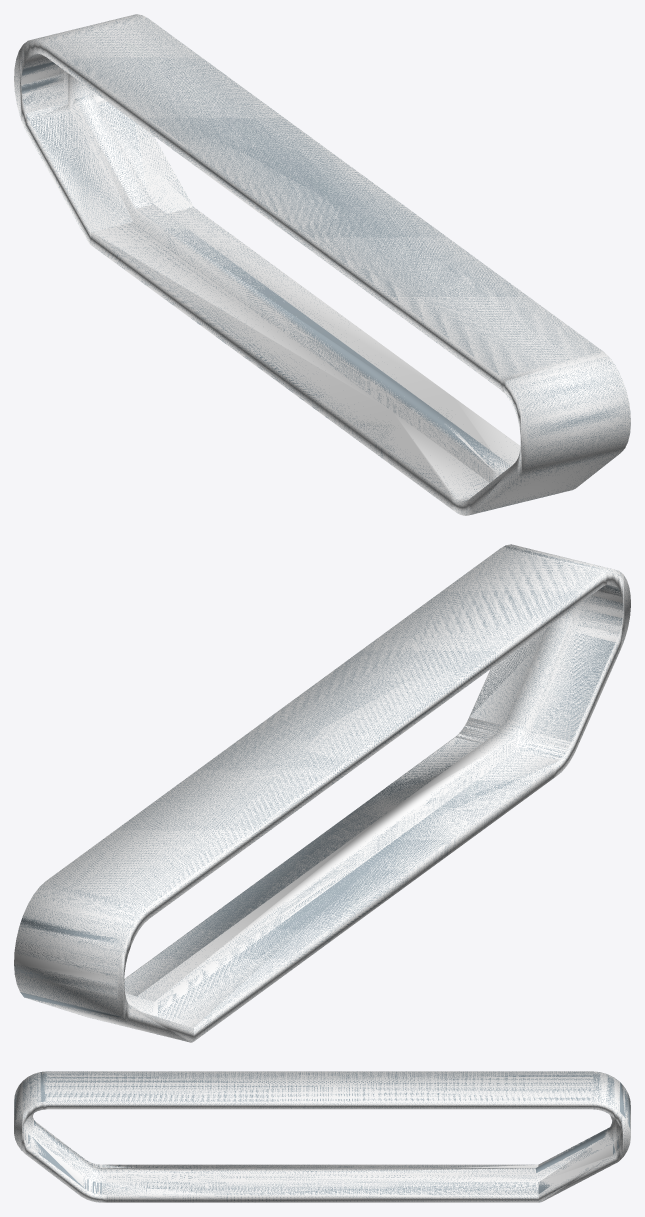
File: Tank_T-90.Full_solid_truck.fbx
3 views of the same model, one above another, from view 1: azimuth 30°, elevation 25°; view 2: azimuth 150°, elevation 25°; view 3: azimuth 270°, elevation 25° (orthographic). The views are drawn at different scales.
Visible parts, largest first — view 1: Model; view 2: Model; view 3: Model.
Boxes of the visible parts, x1,y1,x2,y2 form: Model: (14,14,630,515); Model: (14,544,630,1042); Model: (14,1071,630,1202).
Size of the model in its own units: 735 by 1151 by 6363.
